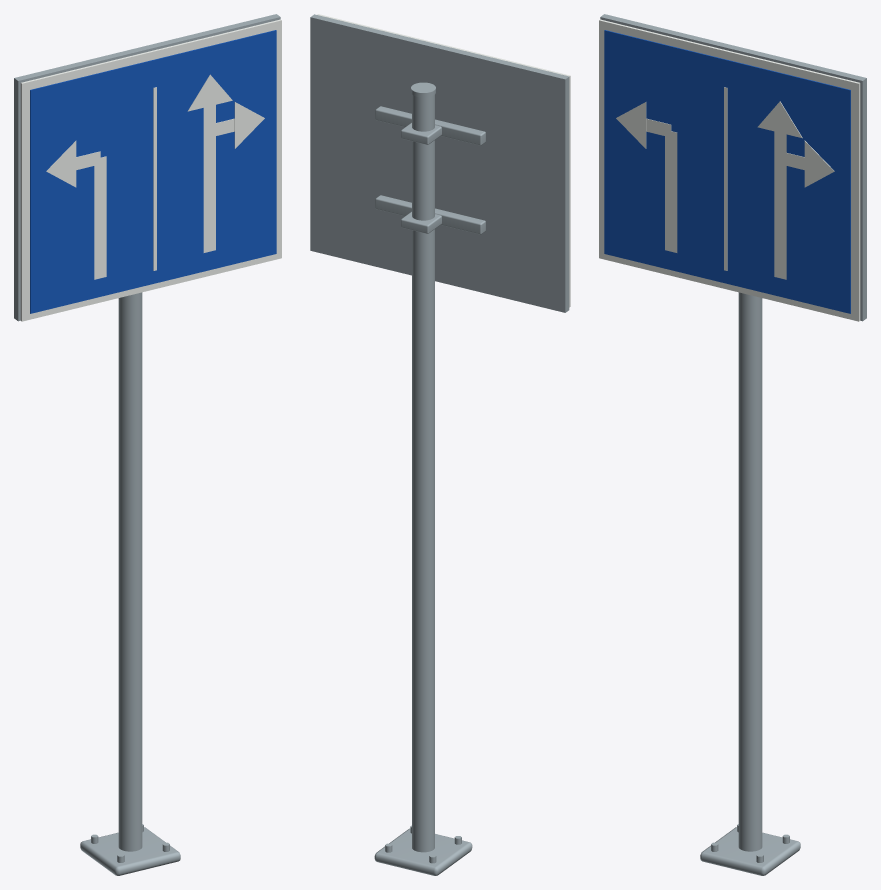
The model's file is DS_Sign_LaneDir_L_SR.glb.
The picture shows the model from 3 angles, left to right: view 1: azimuth 30°, elevation 25°; view 2: azimuth 150°, elevation 25°; view 3: azimuth 330°, elevation 25°; orthographic projection. The views are drawn at different scales.
Visible parts, largest first — view 1: Face_Field.020, Post.027, Face_Border.020, Plate_Back.035, BasePlate.027, LaneStem0, LaneStem0.001, ArrowHead.002, ArrowHead, ArrowHead.001, LaneDivider0; view 2: Plate_Back.035, Post.027, BasePlate.027, RearRail.058, RearRail.057, Face_Border.020, PostClamp.053, PostClamp.054; view 3: Face_Field.020, Post.027, Face_Border.020, Plate_Back.035, BasePlate.027, LaneStem0.001, LaneStem0, ArrowHead, ArrowHead.002, ArrowHead.001, LaneDivider0.
Boxes of the visible parts, x1,y1,x2,y2 form: Face_Field.020: [30, 30, 276, 313]; Post.027: [118, 292, 142, 851]; Face_Border.020: [20, 19, 281, 321]; Plate_Back.035: [14, 14, 280, 321]; BasePlate.027: [80, 827, 180, 875]; LaneStem0: [94, 179, 106, 279]; LaneStem0.001: [203, 152, 215, 252]; ArrowHead.002: [234, 102, 264, 148]; ArrowHead: [46, 140, 76, 187]; ArrowHead.001: [187, 74, 232, 111]; LaneDivider0: [153, 87, 156, 270]; Plate_Back.035: [310, 14, 569, 312]; Post.027: [412, 94, 434, 852]; BasePlate.027: [374, 828, 472, 875]; RearRail.058: [375, 106, 485, 145]; RearRail.057: [375, 195, 485, 234]; Face_Border.020: [317, 14, 570, 307]; PostClamp.053: [401, 211, 441, 233]; PostClamp.054: [401, 122, 441, 144]; Face_Field.020: [604, 30, 850, 313]; Post.027: [738, 292, 762, 851]; Face_Border.020: [599, 19, 860, 321]; Plate_Back.035: [600, 14, 866, 321]; BasePlate.027: [700, 827, 800, 875]; LaneStem0.001: [774, 179, 786, 279]; LaneStem0: [665, 152, 677, 252]; ArrowHead: [616, 102, 646, 148]; ArrowHead.002: [804, 140, 834, 187]; ArrowHead.001: [757, 101, 802, 138]; LaneDivider0: [724, 87, 727, 270].
Bounding box in the file's own units: 0.96 × 2.87 × 0.28.
